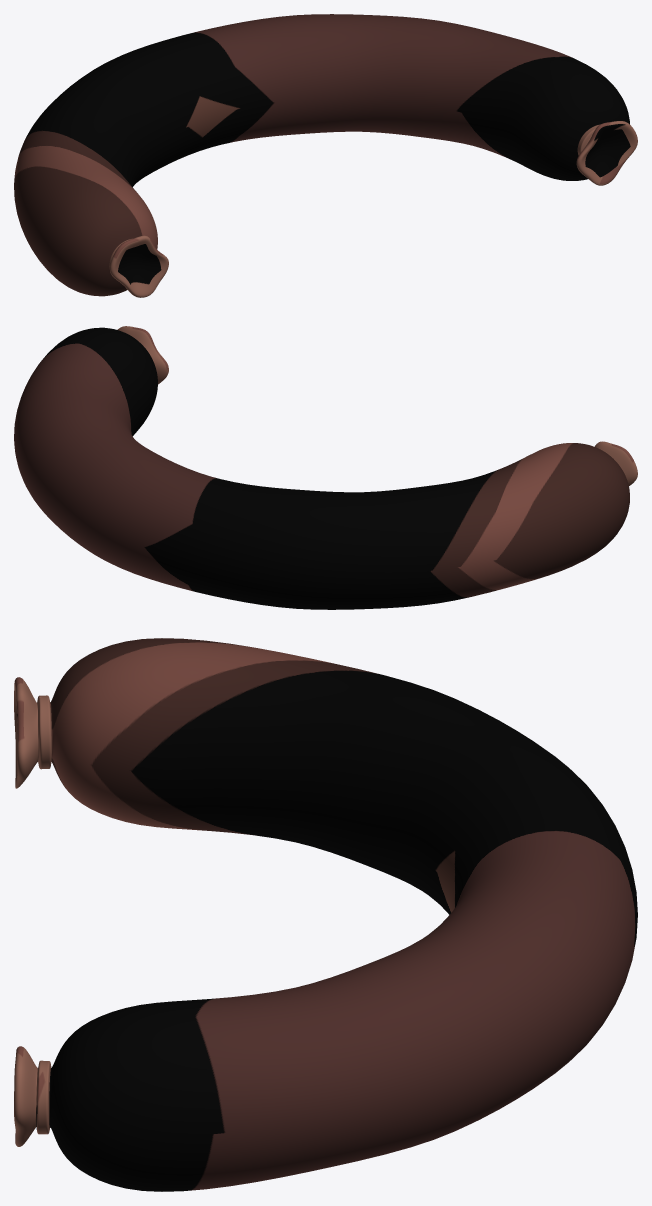
The model's file is sausage_v1.fbx.
The picture shows the model from 3 angles, top to bottom: view 1: azimuth 30°, elevation 25°; view 2: azimuth 150°, elevation 25°; view 3: azimuth 270°, elevation 25°; orthographic projection. The views are drawn at different scales.
Visible parts, largest first — view 1: sausage; view 2: sausage; view 3: sausage.
Part boxes in pixels (box(x1,y1,x2,y2)): sausage: box(14, 14, 637, 297); sausage: box(14, 326, 637, 609); sausage: box(14, 638, 637, 1191).
Bounding box in the file's own units: 29.39 × 5.32 × 17.44.
